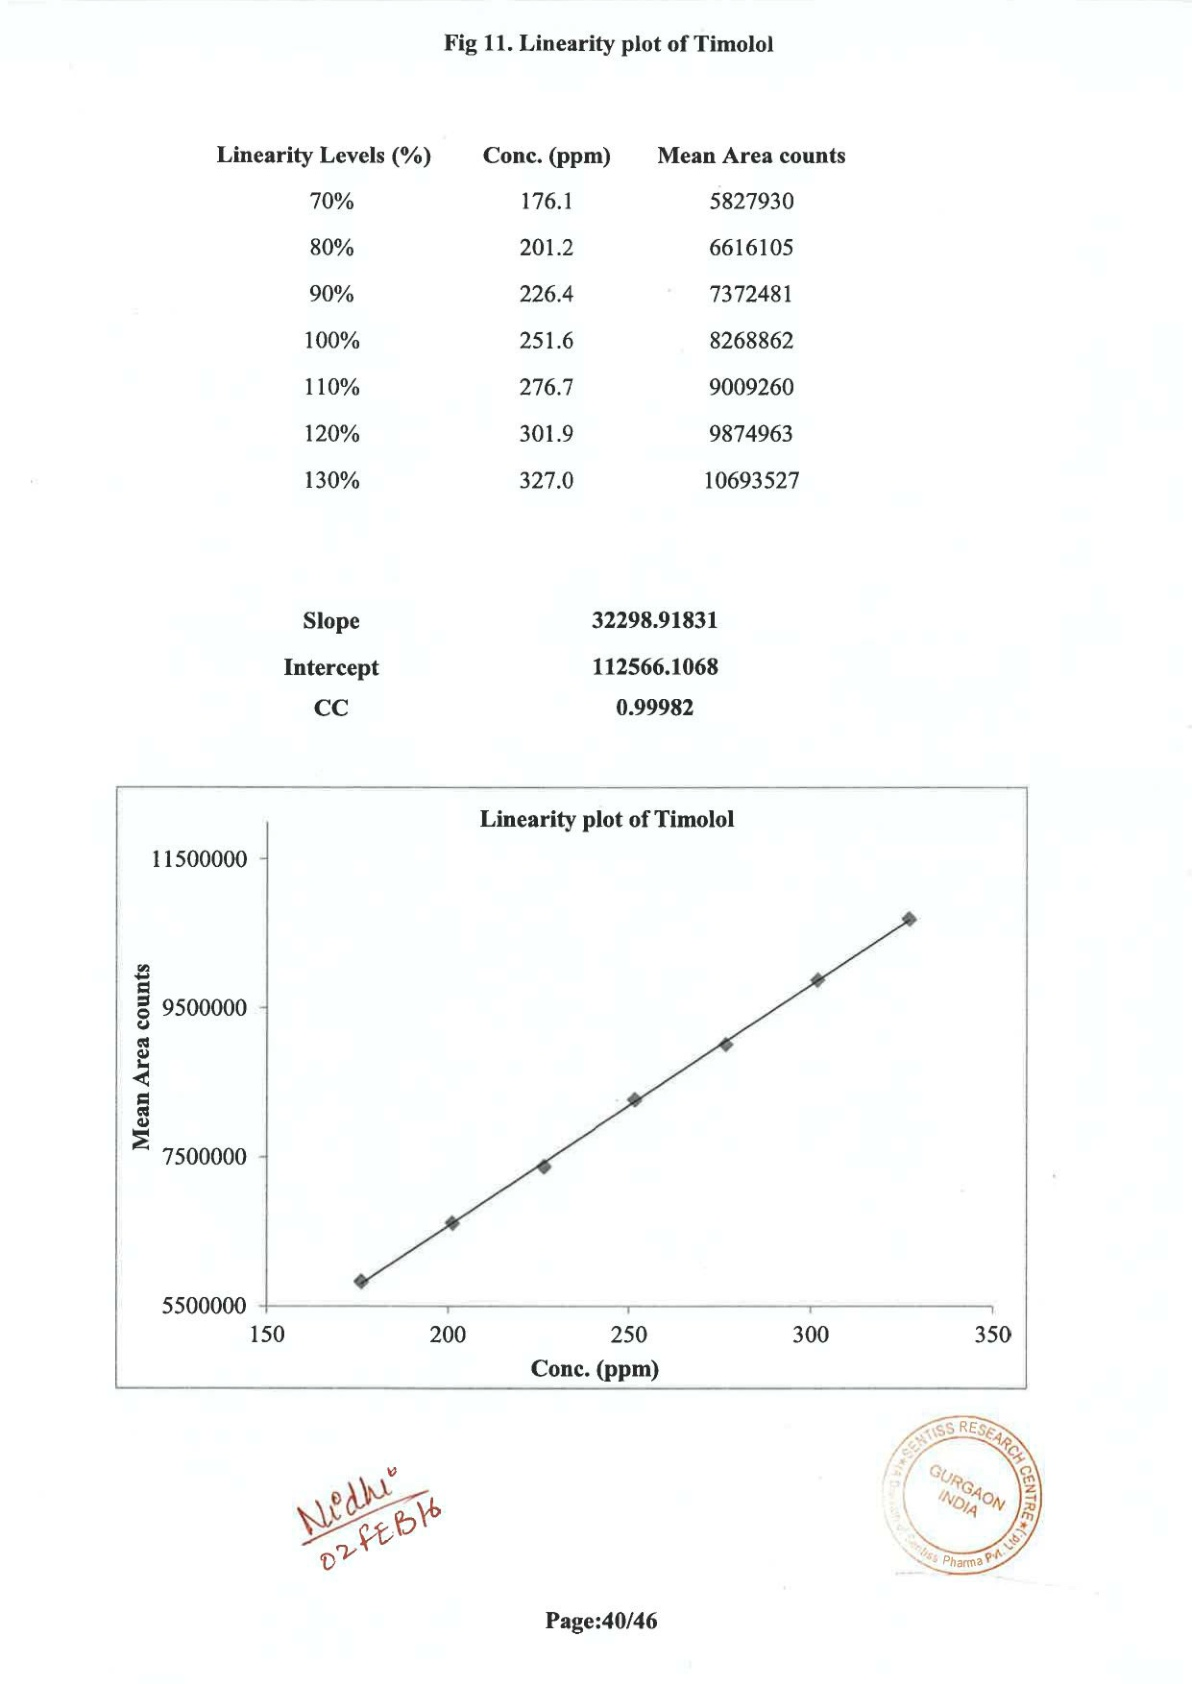nolines: (217, 141, 848, 493), (283, 609, 719, 718)
